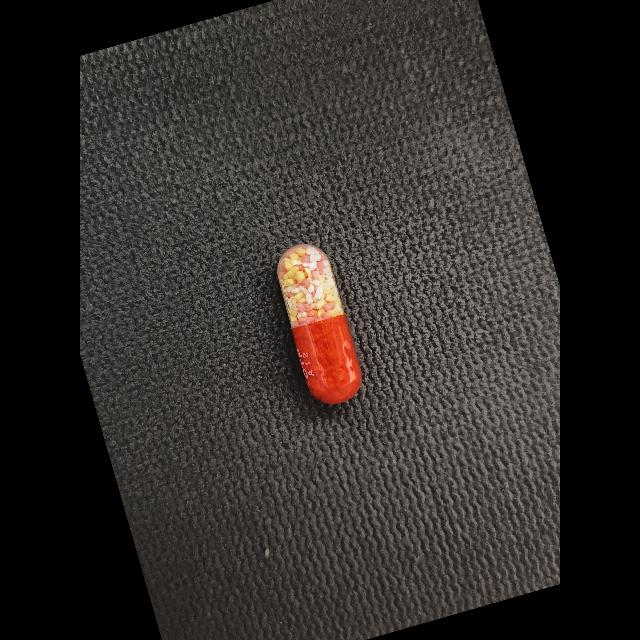Intact Capsule: (277, 244, 362, 404)
